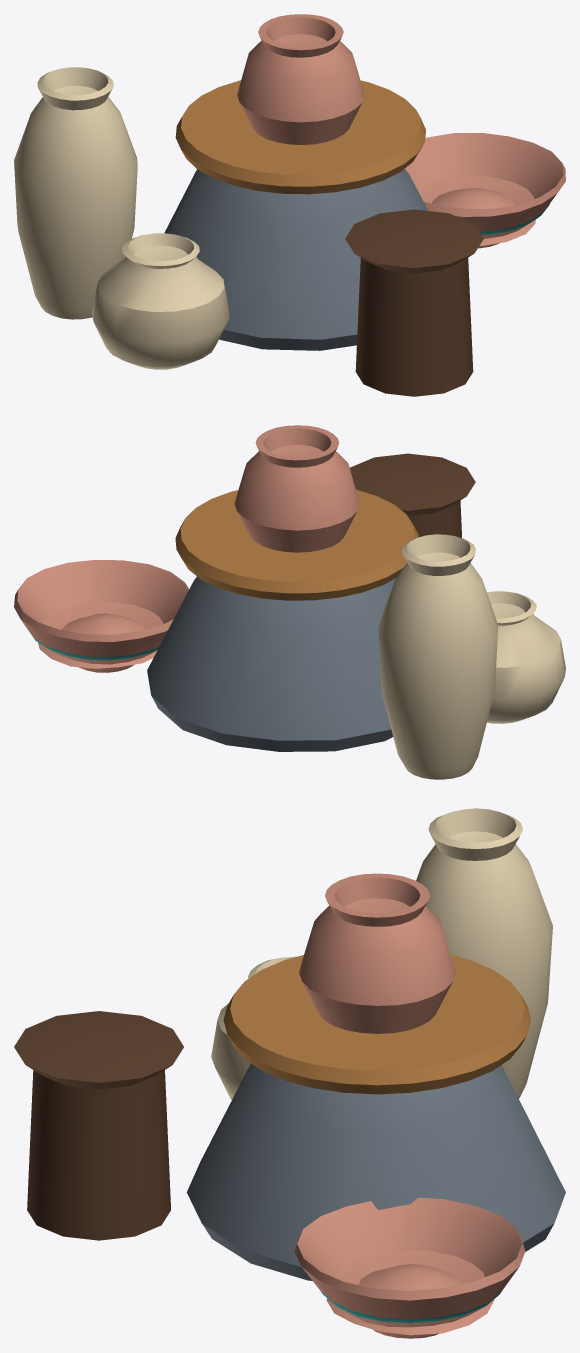
Rendered from deco_pottery_wheel.fbx.
3 views of the same model, one above another, from view 1: azimuth 30°, elevation 25°; view 2: azimuth 150°, elevation 25°; view 3: azimuth 270°, elevation 25° (orthographic). The views are drawn at different scales.
Parts seen in each view (by area): view 1: PotteryWheel_Drying, PotteryWheel_Base, PotteryWheel_Stool, PotteryWheel_Wheel, PotteryWheel_WetPot; view 2: PotteryWheel_Drying, PotteryWheel_Base, PotteryWheel_Wheel, PotteryWheel_WetPot, PotteryWheel_Stool; view 3: PotteryWheel_Base, PotteryWheel_Drying, PotteryWheel_Stool, PotteryWheel_Wheel, PotteryWheel_WetPot.
Part boxes in pixels (x1,y1,x2,y2): PotteryWheel_Drying: [14, 67, 565, 369]; PotteryWheel_Base: [164, 168, 428, 350]; PotteryWheel_Stool: [345, 209, 483, 396]; PotteryWheel_Wheel: [175, 80, 425, 194]; PotteryWheel_WetPot: [237, 14, 364, 144]; PotteryWheel_Drying: [14, 534, 565, 779]; PotteryWheel_Base: [147, 576, 395, 751]; PotteryWheel_Wheel: [175, 489, 418, 600]; PotteryWheel_WetPot: [234, 425, 359, 552]; PotteryWheel_Stool: [350, 453, 475, 538]; PotteryWheel_Base: [186, 1063, 565, 1280]; PotteryWheel_Drying: [211, 808, 552, 1338]; PotteryWheel_Stool: [14, 1011, 183, 1240]; PotteryWheel_Wheel: [223, 955, 531, 1094]; PotteryWheel_WetPot: [299, 873, 455, 1033].
Size of the model in its own units: 219 by 106 by 169.
